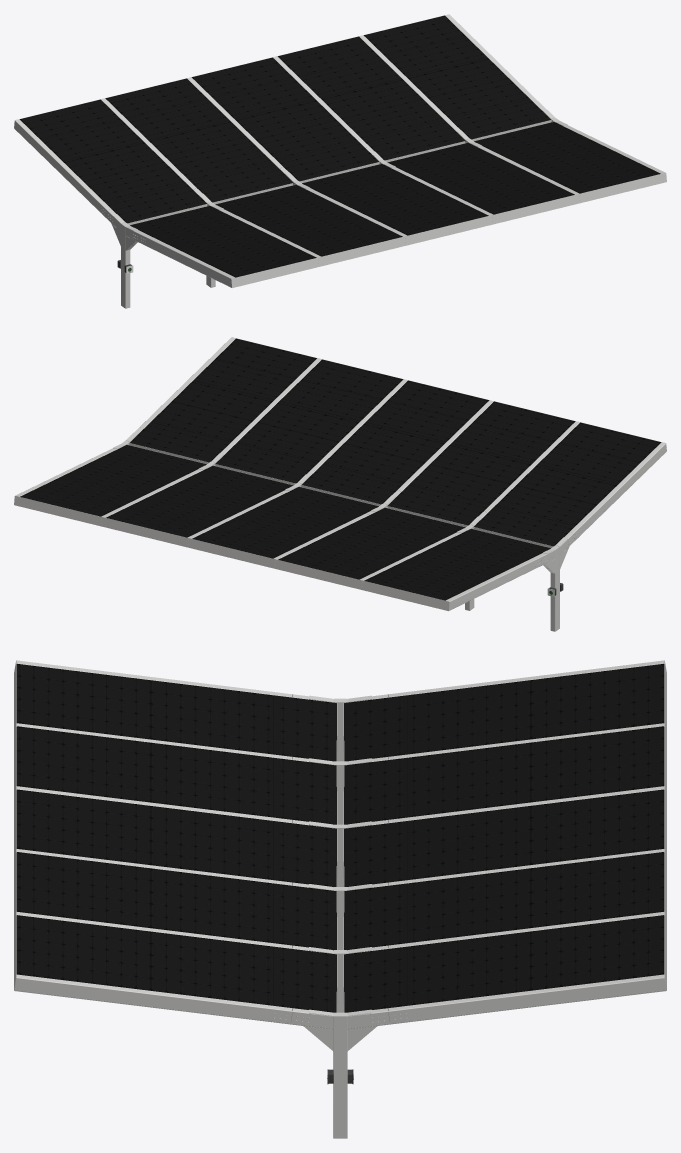
File: oldPac_10.glb
3 renders of one model, top to bottom at view 1: azimuth 30°, elevation 25°; view 2: azimuth 150°, elevation 25°; view 3: azimuth 270°, elevation 25°, orthographic. The views are drawn at different scales.
Parts seen in each view (by area): view 1: Left.275, Left.260, Left.245, Left.236, Left.270, Left.255, Left.240, Left.278, Left.252, Left.267; view 2: Left.260, Left.275, Left.245, Left.236, Left.270, Left.255, Left.240, Left.278, Left.267, Left.252; view 3: Left.275, Left.260, Left.245, Left.240, Left.270, Left.255, Left.248, Left.236, Left.278, Left.263, Left.242.
Part boxes in pixels (bbox=[...]): Left.275: bbox=[20, 78, 402, 277]; Left.260: bbox=[192, 36, 574, 235]; Left.245: bbox=[364, 15, 660, 193]; Left.236: bbox=[14, 14, 666, 287]; Left.270: bbox=[14, 98, 320, 287]; Left.255: bbox=[187, 56, 493, 236]; Left.240: bbox=[359, 14, 665, 194]; Left.278: bbox=[121, 201, 215, 308]; Left.252: bbox=[299, 141, 465, 182]; Left.267: bbox=[127, 183, 293, 224]; Left.260: bbox=[106, 359, 488, 558]; Left.275: bbox=[278, 401, 660, 600]; Left.245: bbox=[20, 338, 316, 516]; Left.236: bbox=[14, 337, 666, 610]; Left.270: bbox=[360, 421, 666, 610]; Left.255: bbox=[187, 379, 493, 559]; Left.240: bbox=[15, 337, 321, 517]; Left.278: bbox=[465, 524, 559, 631]; Left.267: bbox=[387, 506, 553, 547]; Left.252: bbox=[215, 464, 381, 505]; Left.275: bbox=[16, 663, 664, 824]; Left.260: bbox=[16, 789, 664, 950]; Left.245: bbox=[16, 915, 664, 1012]; Left.240: bbox=[14, 912, 666, 1029]; Left.270: bbox=[16, 660, 664, 761]; Left.255: bbox=[16, 786, 664, 887]; Left.248: bbox=[333, 950, 347, 1138]; Left.236: bbox=[14, 660, 666, 990]; Left.278: bbox=[333, 698, 347, 824]; Left.263: bbox=[333, 824, 347, 949]; Left.242: bbox=[15, 805, 665, 1025].
Bounding box in the file's own units: 13.36 × 3.15 × 11.57.
Materials: 6 (5 with a texture image).
